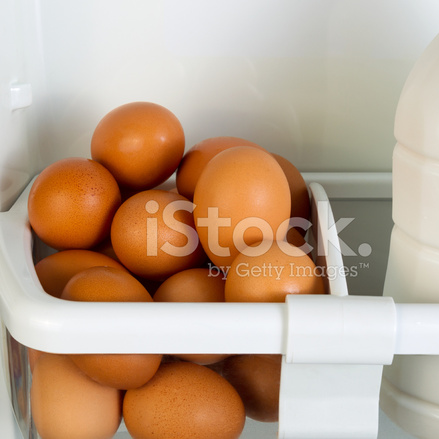egg: (26, 97, 323, 439)
